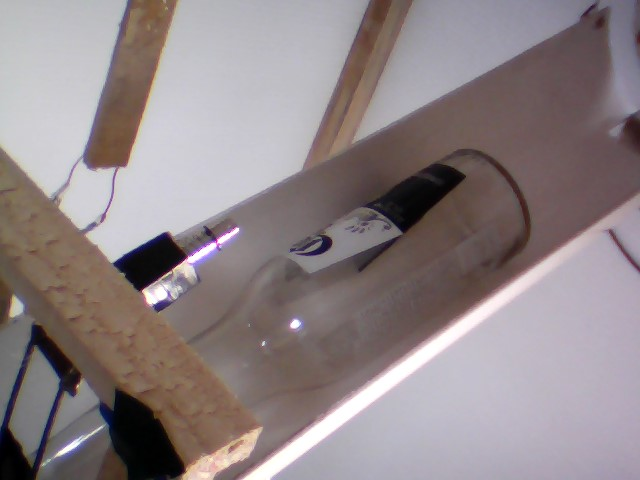vidrio: (182, 144, 546, 405)
